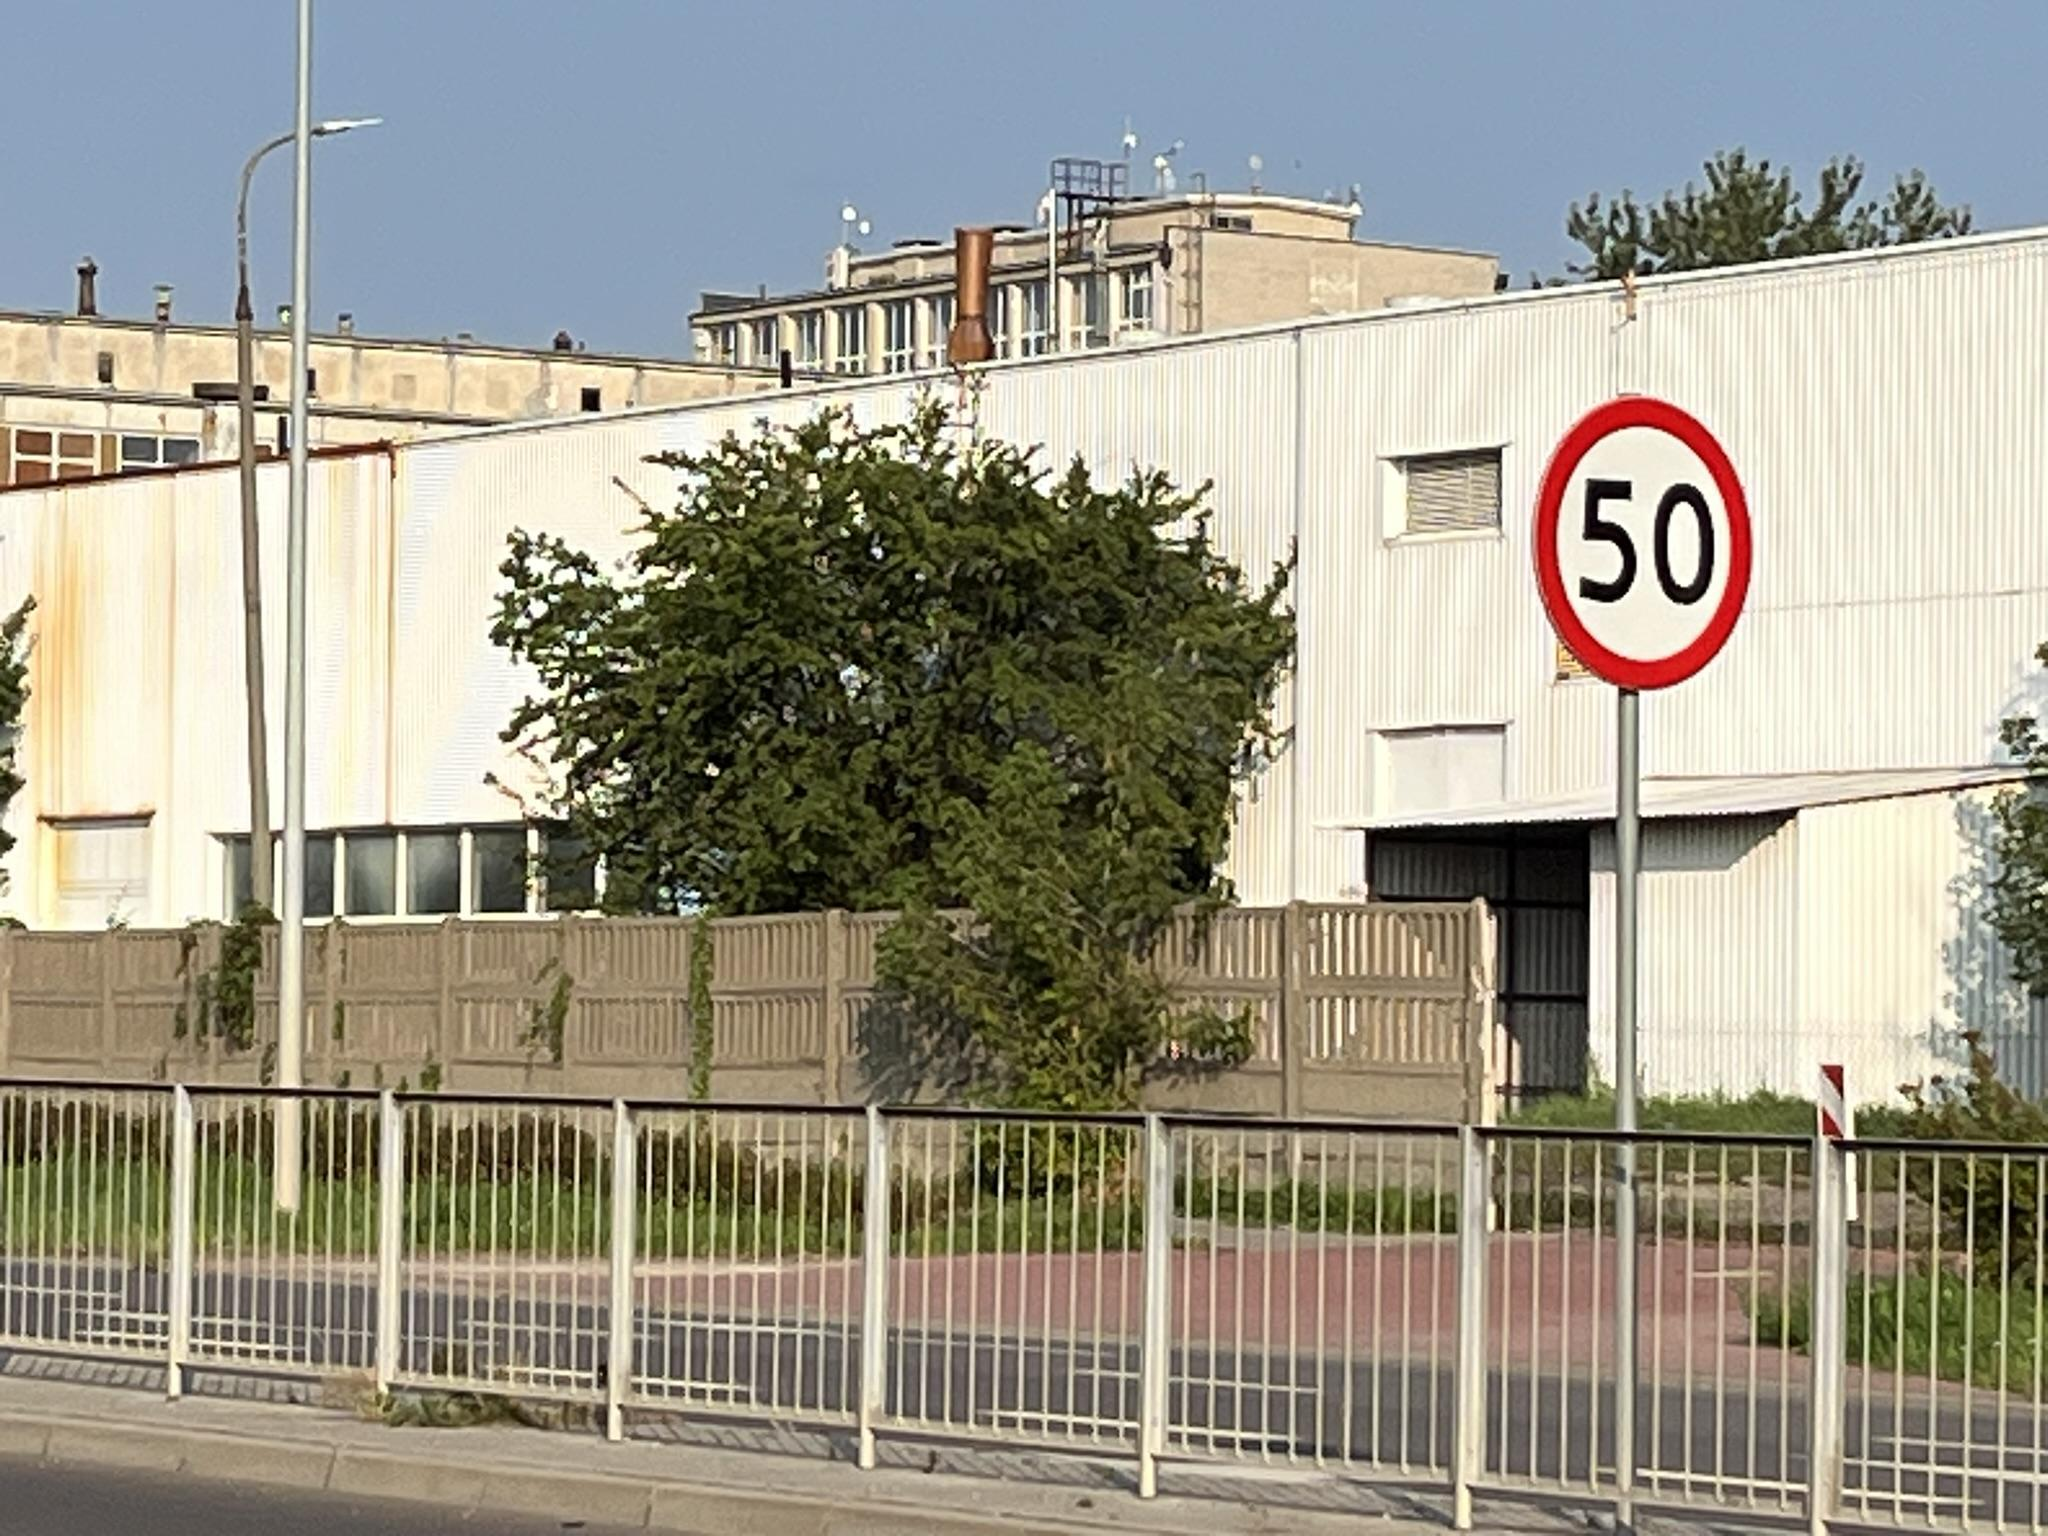prohibitory: (1529, 390, 1755, 694)
